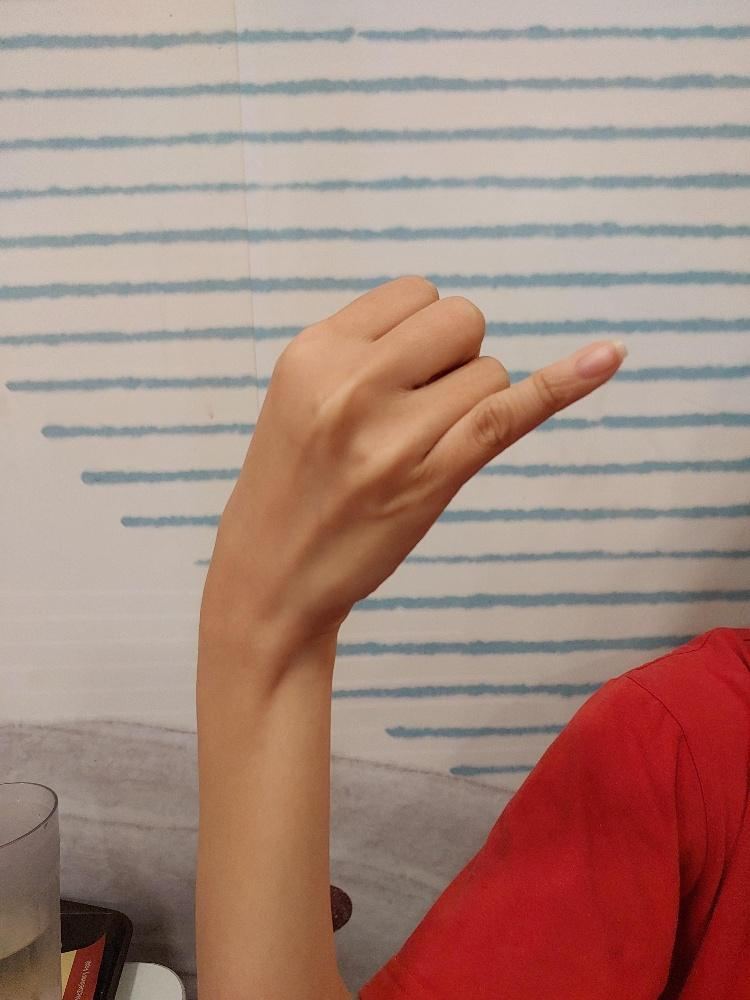j: (218, 271, 631, 636)
